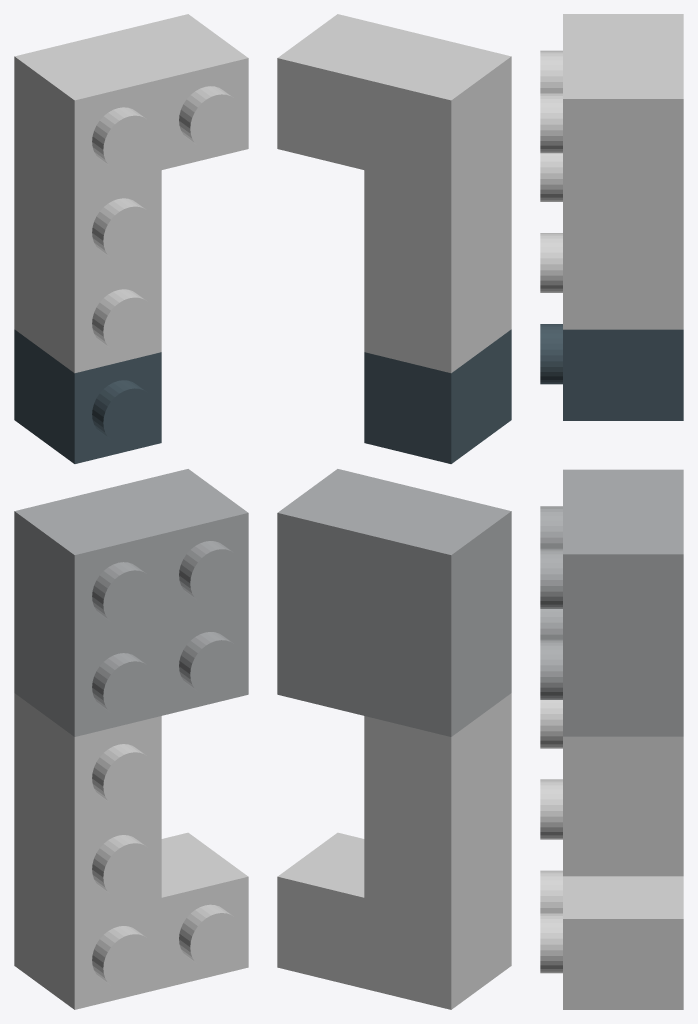
Rendered from current.glb.
The picture shows the model from 3 angles, left to right: view 1: azimuth 30°, elevation 25°; view 2: azimuth 150°, elevation 25°; view 3: azimuth 270°, elevation 25°; orthographic projection.
Visible parts, largest first — view 1: world; view 2: world; view 3: world.
Part boxes in pixels (box(x1,y1,x2,y2)): world: box(14, 14, 248, 1009); world: box(277, 14, 511, 1009); world: box(540, 14, 683, 1009).
Bounding box in the file's own units: 16 × 80 × 11.4.
